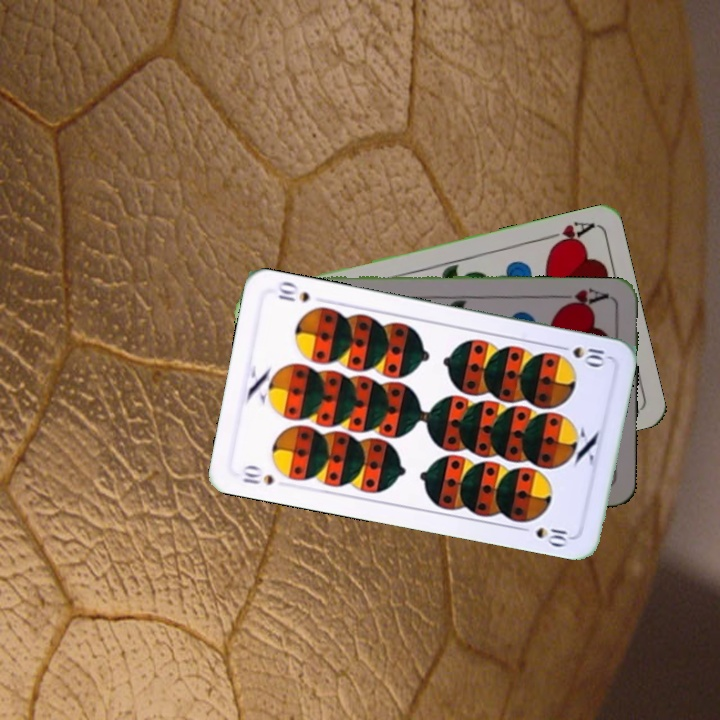HA: (538, 217, 596, 251), (554, 284, 612, 311)
S10: (553, 341, 608, 368), (238, 461, 276, 488)
